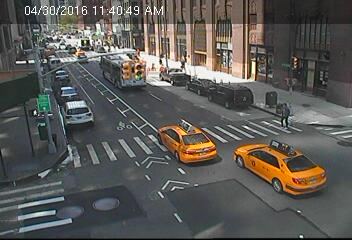neg: (63, 39, 78, 59), (172, 115, 186, 133), (212, 74, 225, 91), (26, 106, 39, 123)
pos: (272, 99, 297, 132), (176, 56, 189, 73)
